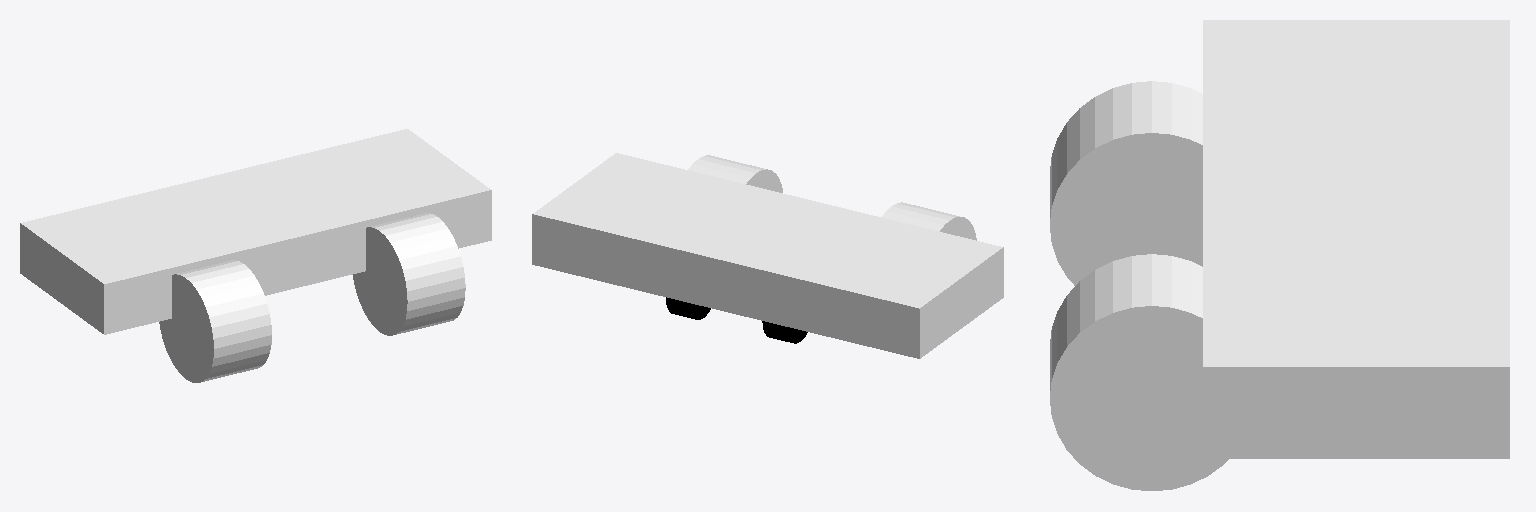
URDF robot description (car):
<!-- 
    需求: 长方体

 -->


<robot name="car">     
    <link name="base_link">
           <visual>
                 <geometry>
                       <box size="0.8 .3 .1"/>
                 </geometry>
            <origin rpy="0 0 0" xyz="0 0 0.05"/>
            <material name="white">
                <color rgba="1 1 1 1"/>
            </material>
           </visual>     
     </link>

     <link name="wheel_1">
           <visual>
                 <geometry>
                       <cylinder length="0.05" radius="0.05"/>
                 </geometry>
            <origin rpy="0 1.57 0" xyz="0.1 0.1 0"/>
               <material name="black">
                <color rgba="0 0 0 1"/>
            </material>
        </visual>
     </link>

     <link name="wheel_2">
           <visual>
                 <geometry>
                       <cylinder length="0.05" radius="0.05"/>
                 </geometry>
            <origin rpy="0 1.57 0" xyz="-0.1 0.1 0"/>
               <material name="black"/>
           </visual>
     </link>

     <link name="wheel_3">
           <visual>
                 <geometry>
                       <cylinder length="0.12" radius="0.1"/>
                 </geometry>
            <origin rpy="0 1.57 0" xyz="0.2 -0.2 0"/>
               <material name="white"/>
           </visual>
     </link>

     <link name="wheel_4">
           <visual>
                 <geometry>
                       <cylinder length="0.12" radius="0.1"/>
                 </geometry>
            <origin rpy="0 1.57 0" xyz="-0.2 -0.2 0"/>
               <material name="white"/>
           </visual>
     </link>

     <joint name="base_to_wheel1" type="fixed">
           <parent link="base_link"/>
           <child link="wheel_1"/>
           <origin xyz="0 0 0"/>
     </joint>

     <joint name="base_to_wheel2" type="fixed">
           <parent link="base_link"/>
           <child link="wheel_2"/>
           <origin xyz="0 0 0"/>
     </joint>

     <joint name="base_to_wheel3" type="fixed">
           <parent link="base_link"/>
           <child link="wheel_3"/>
           <origin xyz="0 0 0"/>
     </joint>

     <joint name="base_to_wheel4" type="fixed">
           <parent link="base_link"/>
           <child link="wheel_4"/>
           <origin xyz="0 0 0"/>
     </joint>
</robot>

--- Facts derived from the render (not from the file) ---
Views: 3 orthographic renders of the robot side by side, from view 1: azimuth 30°, elevation 25°; view 2: azimuth 150°, elevation 25°; view 3: azimuth 270°, elevation 25°.
Robot: car — 5 links, 4 joints (4 fixed); root link base_link; default pose: all joints at 0.
Visible links, largest first — view 1: base_link, wheel_4, wheel_3; view 2: base_link, wheel_3, wheel_4, wheel_2, wheel_1; view 3: base_link, wheel_3, wheel_4.
Link boxes in pixels (left/top/right/bottom): base_link: left=20, top=129, right=491, bottom=334; wheel_4: left=159, top=260, right=271, bottom=382; wheel_3: left=353, top=213, right=465, bottom=335; base_link: left=532, top=153, right=1003, bottom=358; wheel_3: left=688, top=155, right=782, bottom=192; wheel_4: left=882, top=202, right=976, bottom=240; wheel_2: left=762, top=321, right=807, bottom=343; wheel_1: left=666, top=297, right=710, bottom=319; base_link: left=1203, top=20, right=1509, bottom=458; wheel_3: left=1050, top=254, right=1228, bottom=490; wheel_4: left=1050, top=81, right=1202, bottom=285.
Bounding box of the posed robot: 0.8 × 0.45 × 0.2001 m (x, y, z).
Geometry: primitives only (box / cylinder / sphere), no mesh files.
